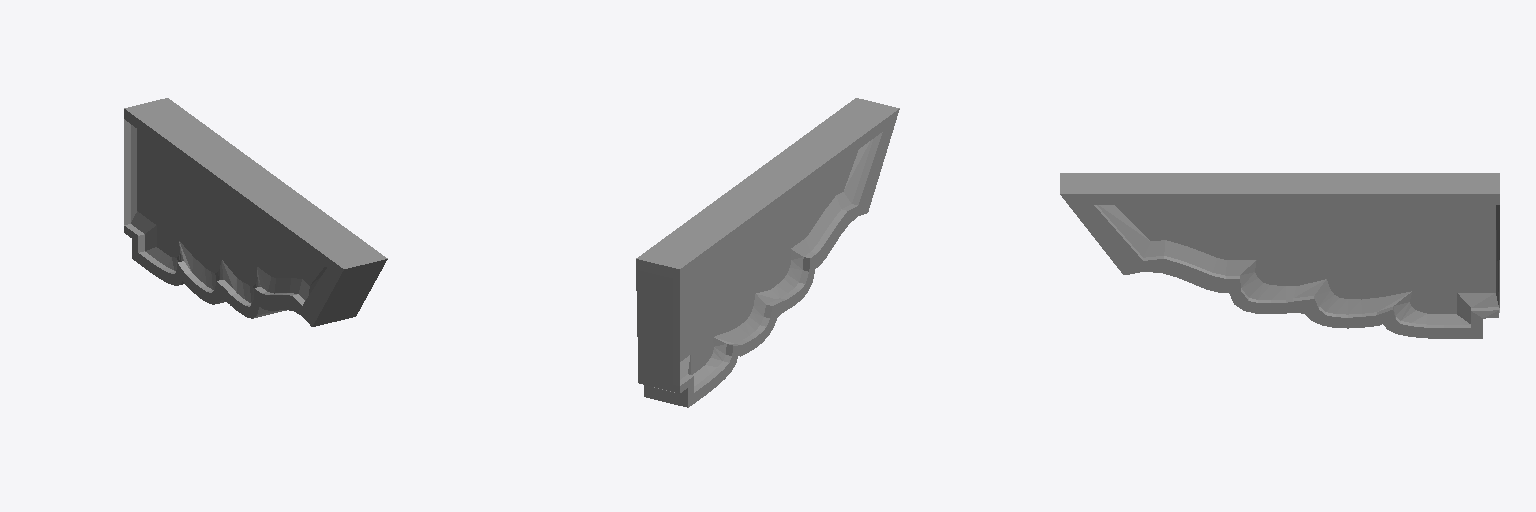
The model's file is Sparrow_Brace.obj.
The picture shows the model from 3 angles: view 1: azimuth 30°, elevation 25°; view 2: azimuth 150°, elevation 25°; view 3: azimuth 270°, elevation 25°; orthographic projection.
Visible parts, largest first — view 1: Line01; view 2: Line01; view 3: Line01.
Boxes of the visible parts, x1=… form: Line01: x1=124, y1=98, x2=387, y2=326; Line01: x1=636, y1=98, x2=899, y2=407; Line01: x1=1060, y1=173, x2=1499, y2=338.
Bounding box in the file's own units: 10.07 × 31.78 × 87.54.